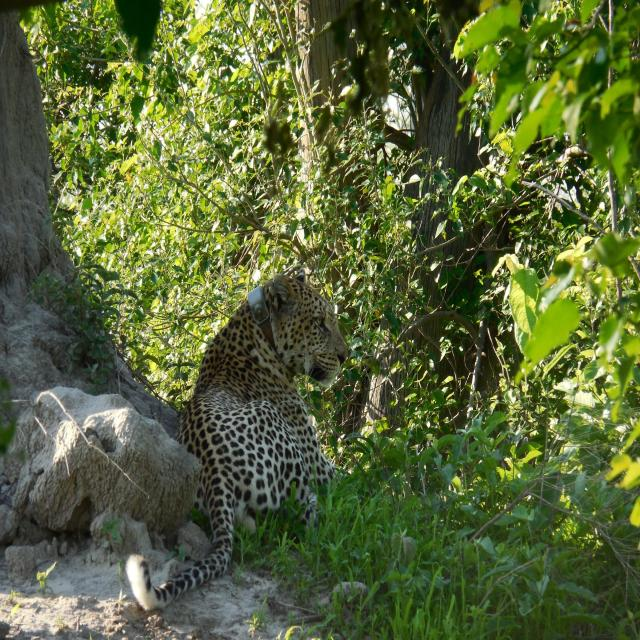Leopard: (156, 260, 362, 597)
